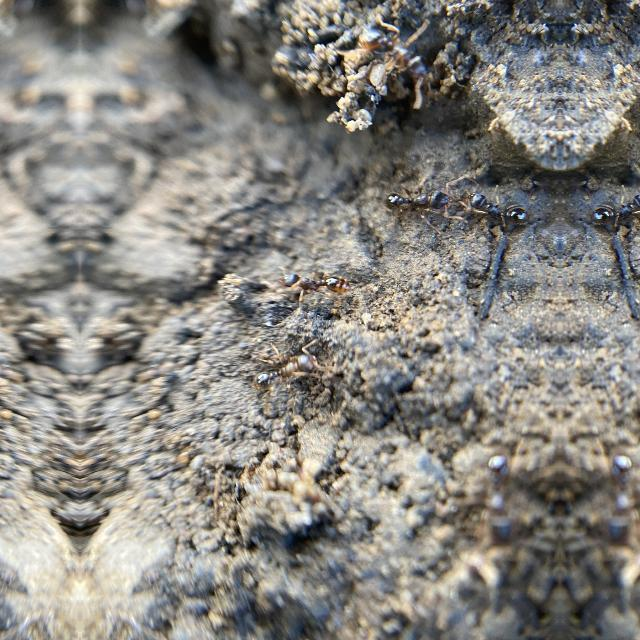Tetramorium: (470, 448, 526, 552), (594, 446, 640, 552), (458, 180, 538, 236), (274, 258, 358, 304), (374, 180, 454, 226), (254, 346, 316, 404), (582, 180, 640, 236)
